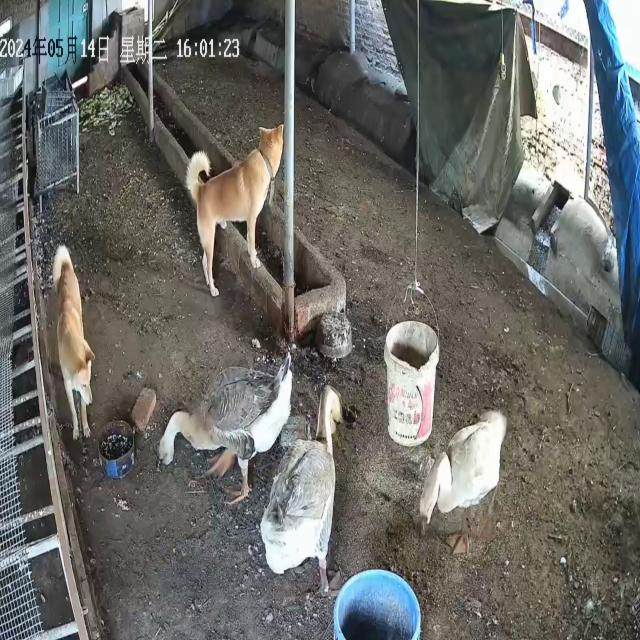dog: (186, 123, 285, 299), (53, 245, 96, 443)
